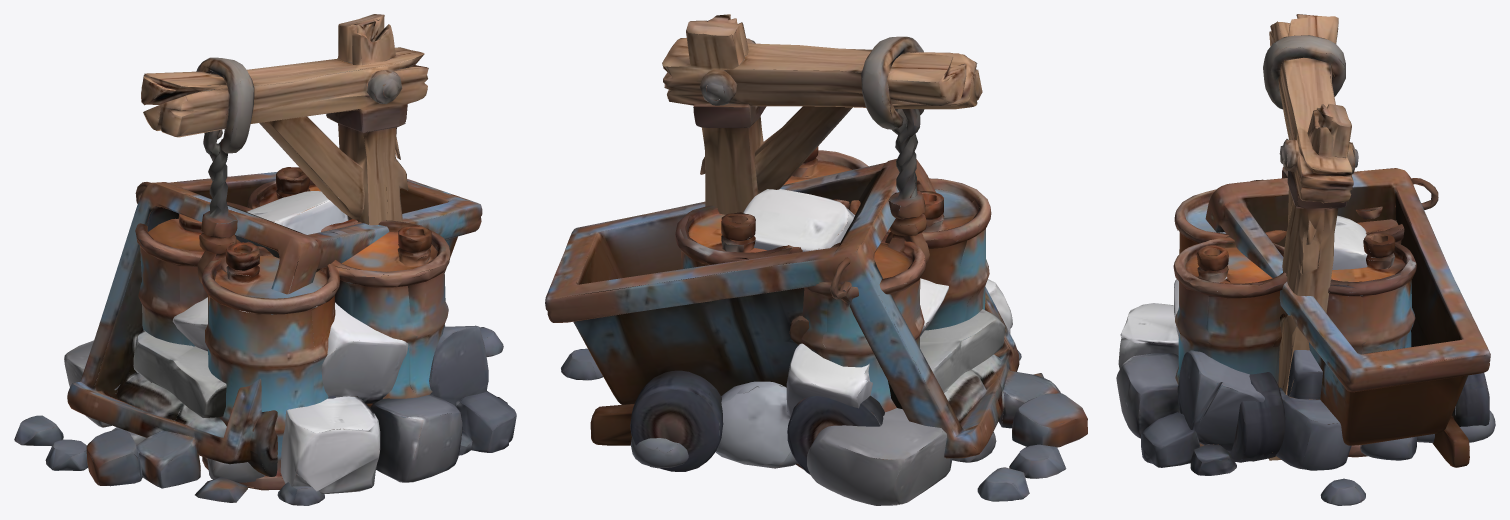
The model's file is rk_cover.glb.
3 views of the same model, side by side, from view 1: azimuth 30°, elevation 25°; view 2: azimuth 150°, elevation 25°; view 3: azimuth 270°, elevation 25° (orthographic). The views are drawn at different scales.
Parts seen in each view (by area): view 1: cover_cart, cover_barrels, cover_frame, cover_blocks; view 2: cover_cart, cover_frame, cover_blocks, cover_barrels; view 3: cover_cart, cover_blocks, cover_barrels, cover_frame.
Boxes of the visible parts, <box> form: cover_cart: <box>14,172,503,505</box>; cover_barrels: <box>135,167,450,490</box>; cover_frame: <box>141,14,428,283</box>; cover_blocks: <box>64,191,516,493</box>; cover_cart: <box>545,159,1087,501</box>; cover_frame: <box>662,14,982,263</box>; cover_blocks: <box>630,189,1012,505</box>; cover_barrels: <box>675,146,991,469</box>; cover_cart: <box>1205,168,1490,505</box>; cover_blocks: <box>1116,215,1495,475</box>; cover_barrels: <box>1173,178,1438,457</box>; cover_frame: <box>1263,14,1358,460</box>.
Bounding box in the file's own units: 0.3976 × 0.308 × 0.3059.
Materials: 1 (1 with a texture image).
